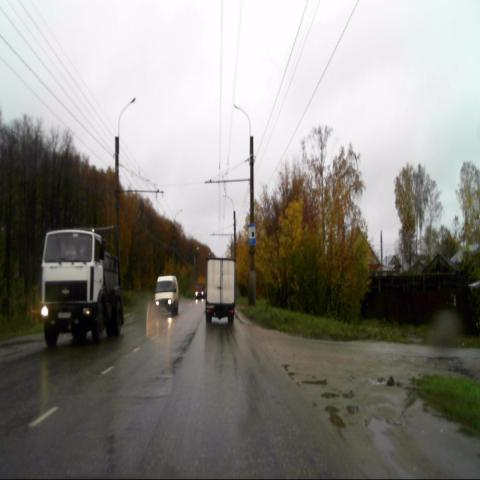7_3: (247, 223, 256, 243)
